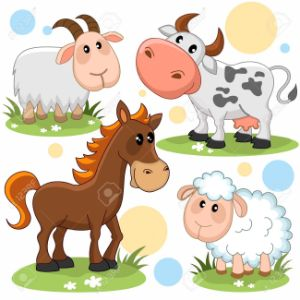cow: (136, 12, 294, 147)
horse: (14, 112, 168, 272)
sheep: (179, 169, 294, 279), (9, 10, 119, 121)
